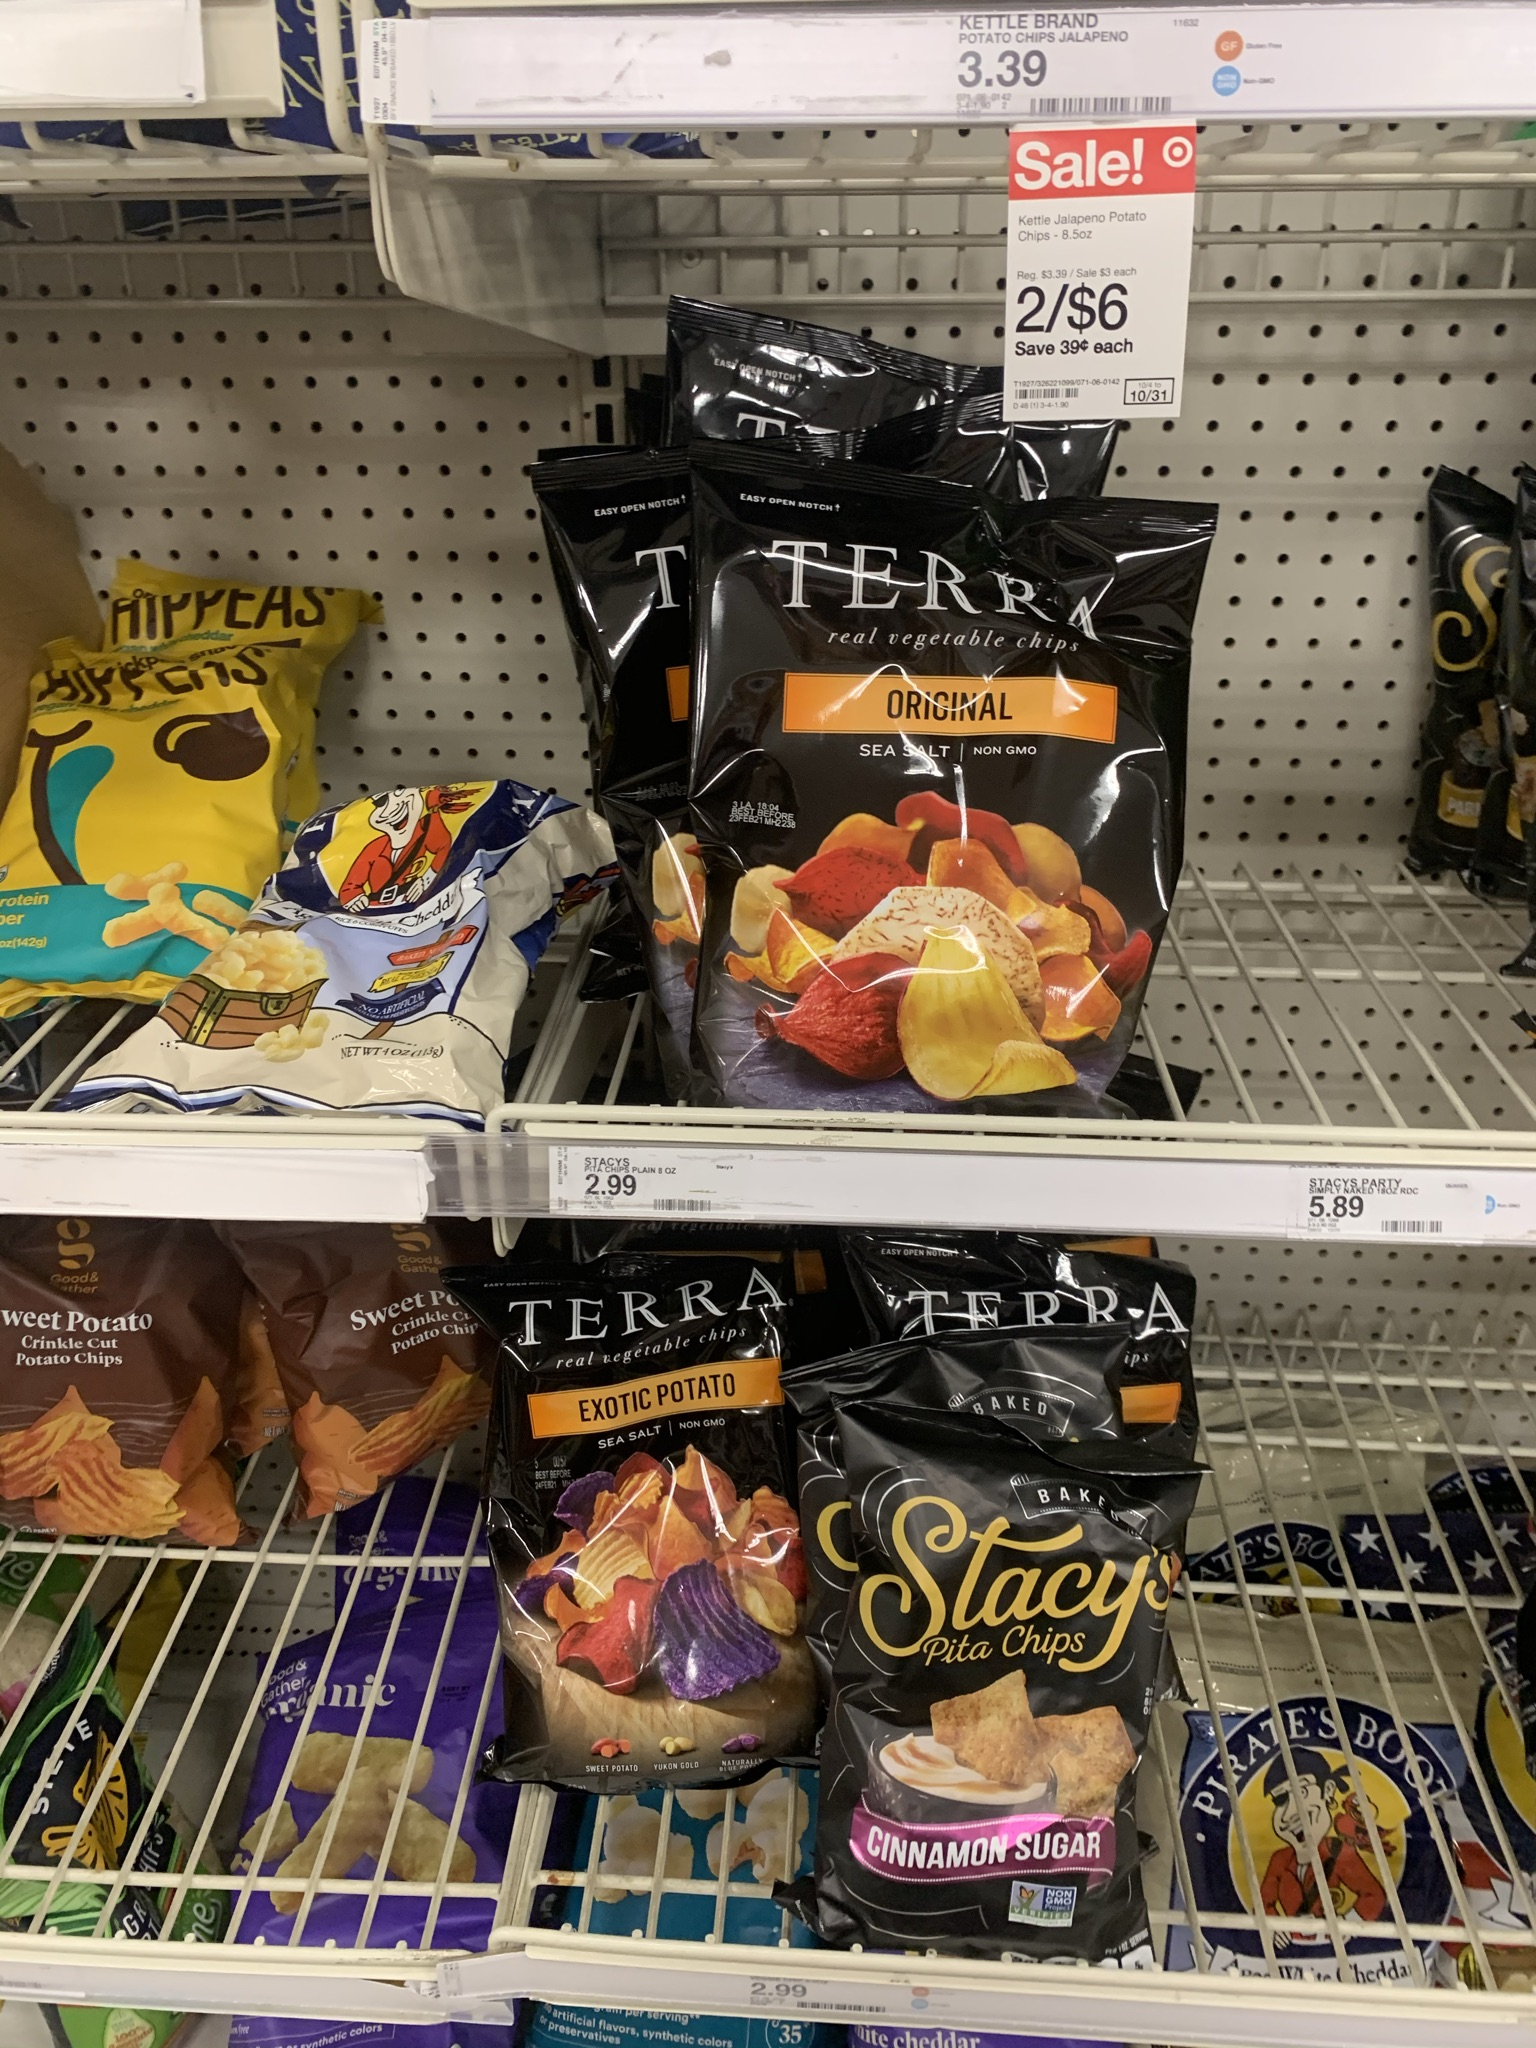stacy: (847, 1430, 1194, 2011)
terra: (757, 510, 1171, 1109), (524, 1293, 815, 1829)
